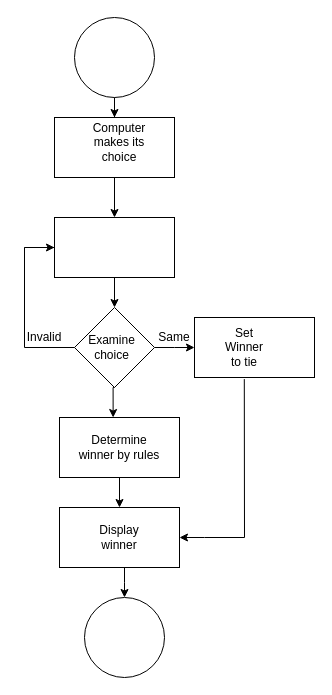
The diagram is 332 pixels wide and 695 high, and some of its shapes have lost their labels. The shapes that lost their labels are listed below. From the top down, each one's centre as x and y in pixels, then its label:
At [114,57]: "Start".
At [114,247]: "Get user choice".
At [124,637]: "Game Over".
